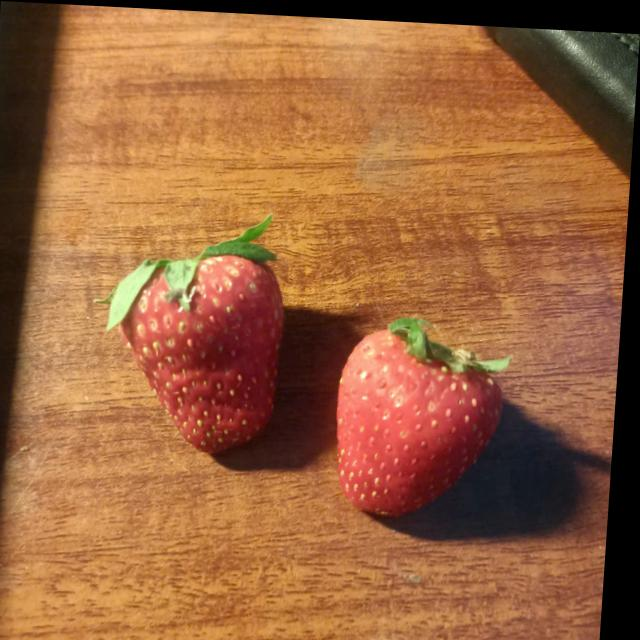DauTay: (330, 317, 512, 524), (119, 244, 296, 447)
